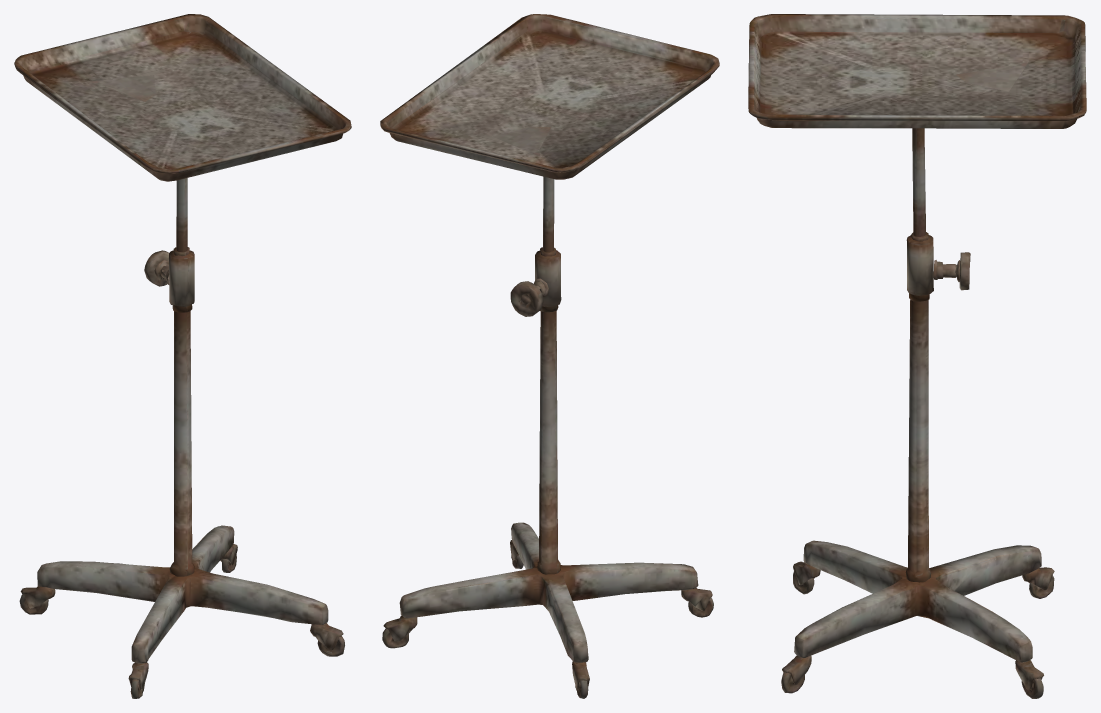
The model's file is tray.glb.
3 views of the same model, side by side, from view 1: azimuth 30°, elevation 25°; view 2: azimuth 150°, elevation 25°; view 3: azimuth 270°, elevation 25° (orthographic). The views are drawn at different scales.
Size of the model in its own units: 0.423 by 1 by 0.5306.
1 material, 1 textured.
